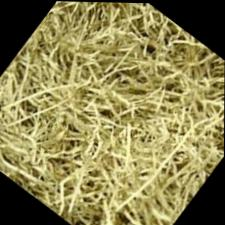paper: (0, 2, 223, 224)
